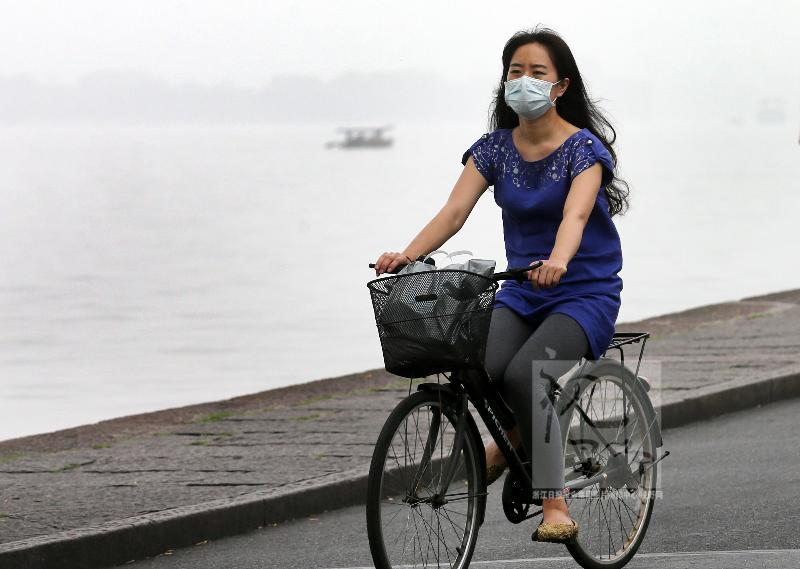face_mask: (505, 46, 554, 117)
